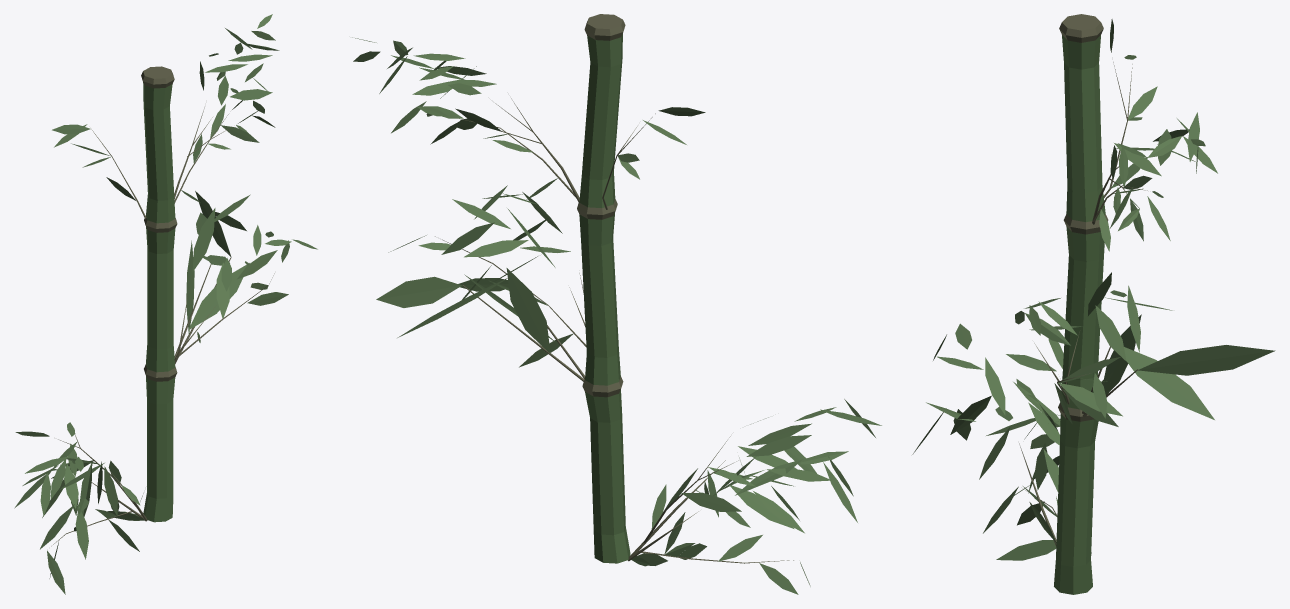
The model's file is Bamboo_01_C.fbx.
3 renders of one model, left to right at view 1: azimuth 30°, elevation 25°; view 2: azimuth 150°, elevation 25°; view 3: azimuth 270°, elevation 25°, orthographic. The views are drawn at different scales.
Visible parts, largest first — view 1: Bamboo_01_C; view 2: Bamboo_01_C; view 3: Bamboo_01_C.
Boxes of the visible parts, box(x1,y1,x2,y2) form: Bamboo_01_C: box(14, 14, 317, 594); Bamboo_01_C: box(352, 14, 881, 594); Bamboo_01_C: box(912, 14, 1275, 594).
Size of the model in its own units: 65.43 by 82.26 by 45.71.
